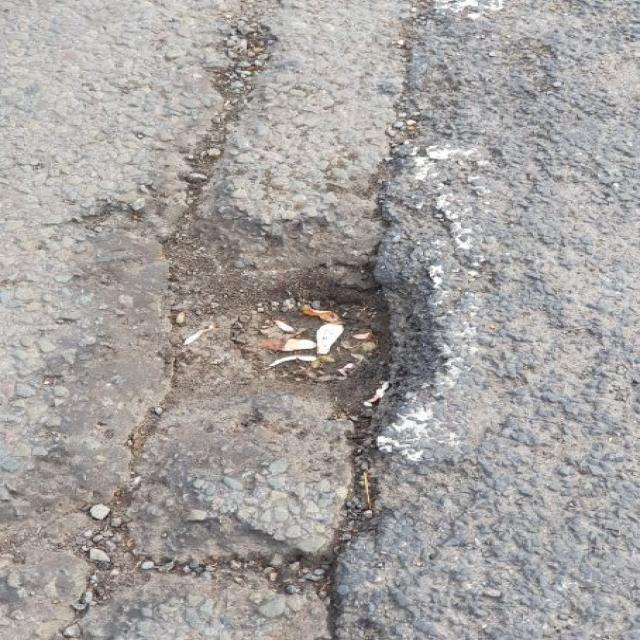pothole: (42, 176, 475, 594)
